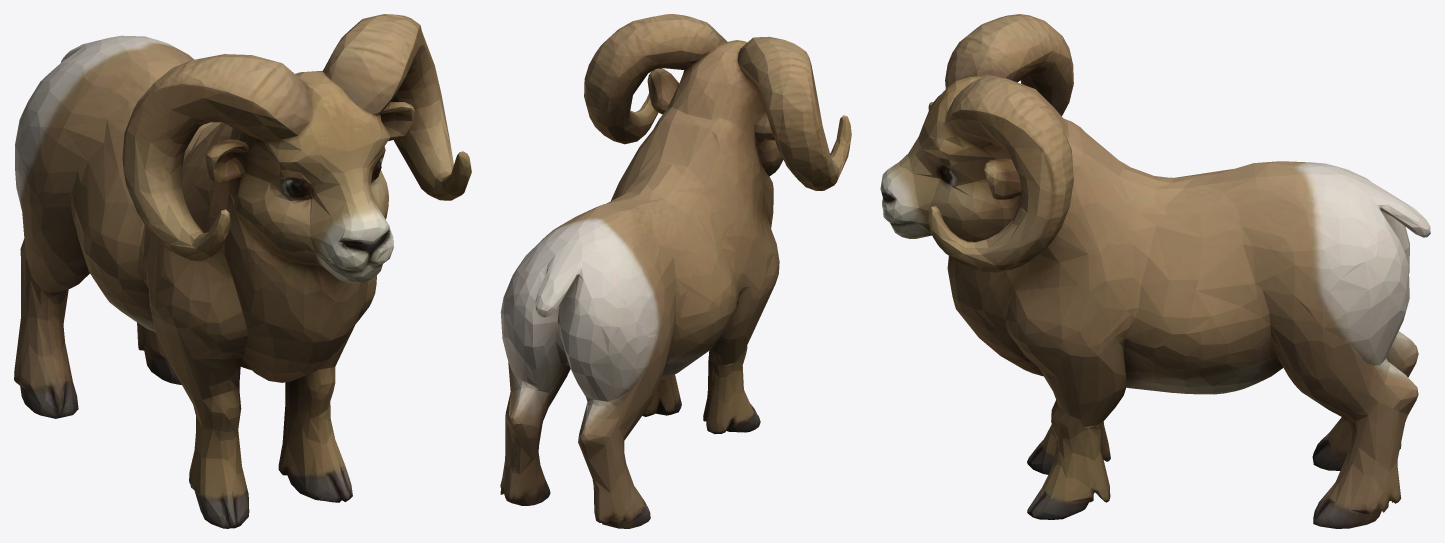
Rendered from bighorn_sheep.glb.
3 views of the same model, side by side, from view 1: azimuth 30°, elevation 25°; view 2: azimuth 150°, elevation 25°; view 3: azimuth 270°, elevation 25° (orthographic). The views are drawn at different scales.
Parts seen in each view (by area): view 1: geometry_0; view 2: geometry_0; view 3: geometry_0.
Part boxes in pixels (bbox=[...]): geometry_0: bbox=[14, 14, 471, 528]; geometry_0: bbox=[500, 14, 851, 528]; geometry_0: bbox=[880, 14, 1430, 528].
Bounding box in the file's own units: 0.5884 × 0.868 × 0.9919.
1 material, 1 textured.
